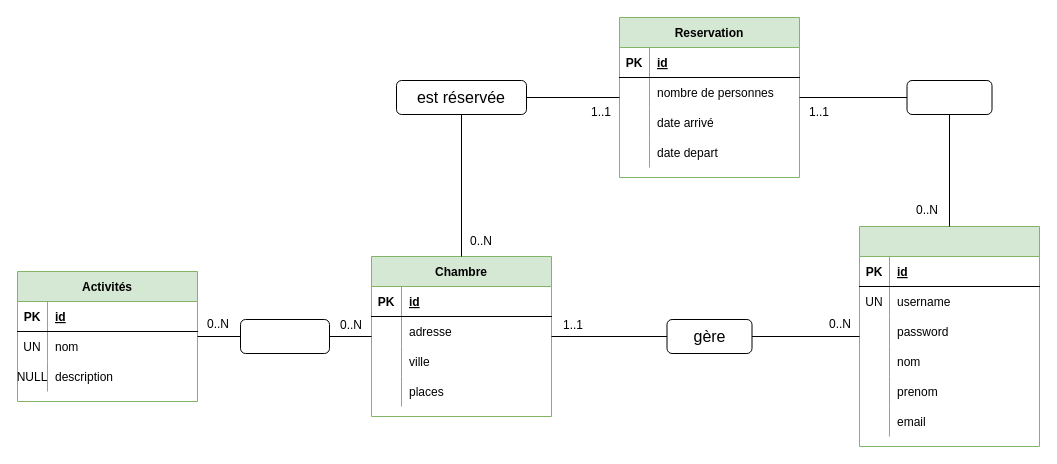
Some shapes in this 1057 by 464 pixel diagram are drawn without their labels. The box of each missing label's shape, as (x1, y1, x2, y2) in pixels:
réserve: (906, 80, 992, 114)
utilisateur: (858, 226, 1040, 446)
à proximité: (240, 318, 330, 354)
